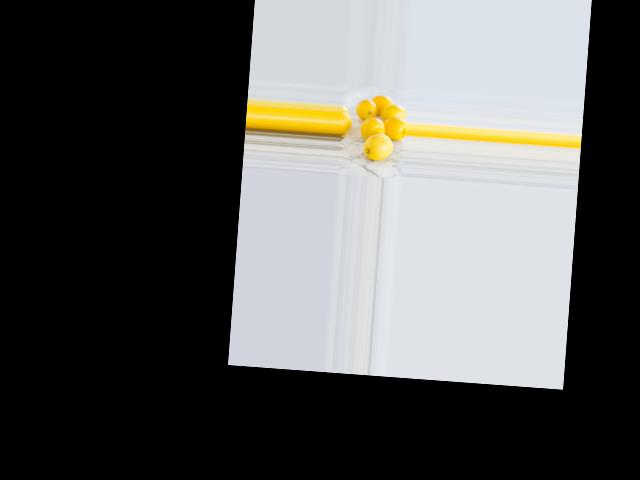lemon: (358, 130, 397, 162)
